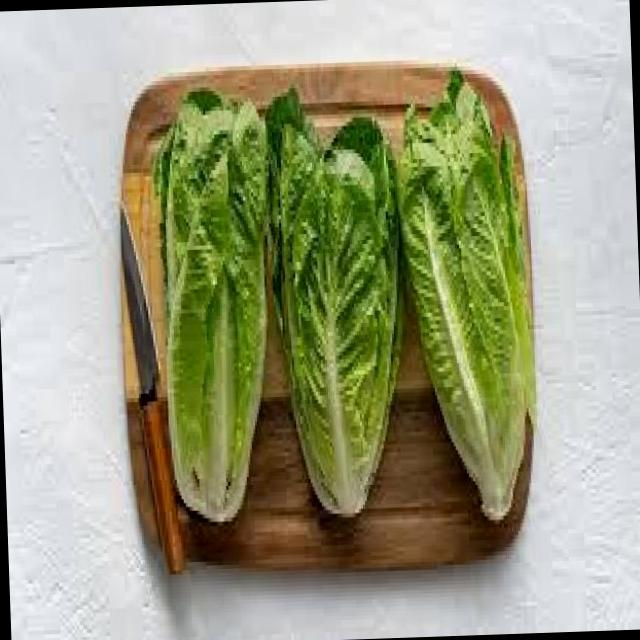Lettuce-Ready-to-Harvest: (399, 70, 534, 519), (265, 90, 399, 516), (156, 90, 266, 521)
